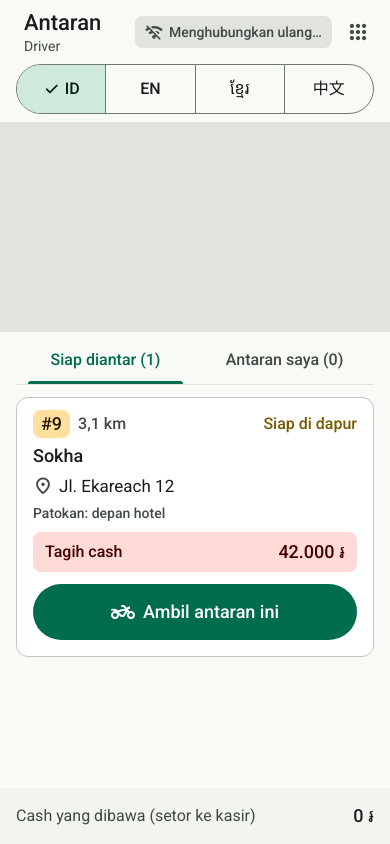
it: Aplikasi driver – alur Ambil › keduluan driver lain → pesan ALREADY_TAKEN
Click the button "Ambil antaran ini". click: [195, 612]
box: [33,584,357,640]
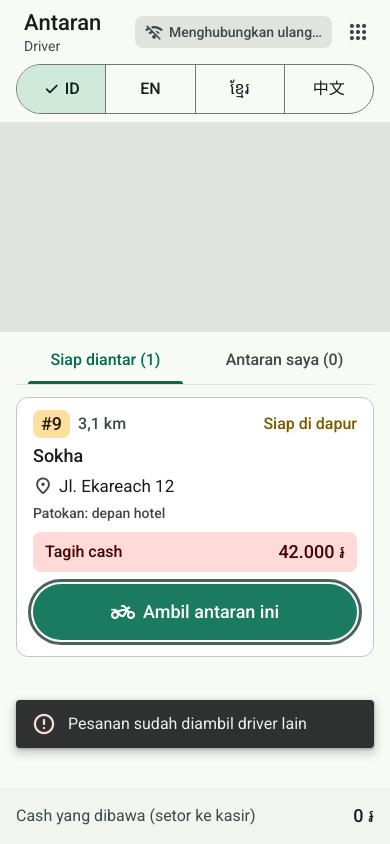
Expected: the text "Pesanan sudah diambil driver lain" is shown, [68,714,307,733]
